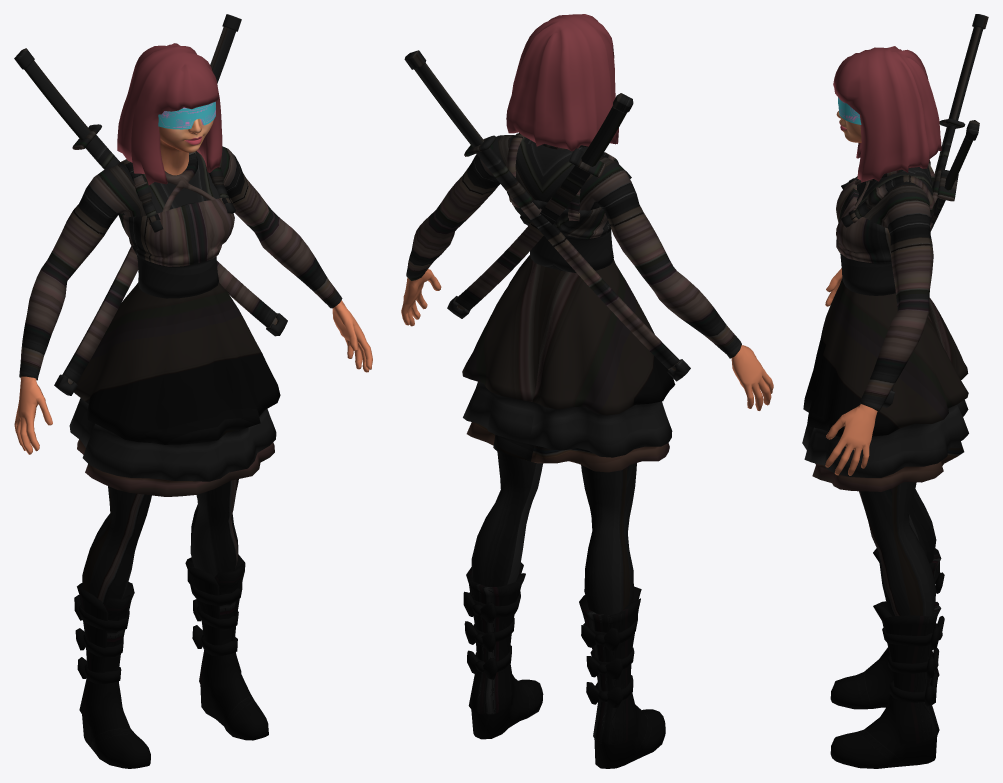
The model's file is developer-2.fbx.
3 views of the same model, side by side, from view 1: azimuth 30°, elevation 25°; view 2: azimuth 150°, elevation 25°; view 3: azimuth 270°, elevation 25° (orthographic). The views are drawn at different scales.
Parts seen in each view (by area): view 1: Wolf3D_Outfit_Bottom, Wolf3D_Outfit_Top, Wolf3D_Outfit_Footwear, Wolf3D_Hair, Wolf3D_Body, Wolf3D_Head, Wolf3D_Glasses; view 2: Wolf3D_Outfit_Bottom, Wolf3D_Outfit_Top, Wolf3D_Outfit_Footwear, Wolf3D_Hair, Wolf3D_Body; view 3: Wolf3D_Outfit_Bottom, Wolf3D_Outfit_Top, Wolf3D_Outfit_Footwear, Wolf3D_Hair, Wolf3D_Body, Wolf3D_Head, Wolf3D_Glasses.
Boxes of the visible parts, <box> form: Wolf3D_Outfit_Bottom: <box>69,282,280,604</box>; Wolf3D_Outfit_Top: <box>14,14,342,395</box>; Wolf3D_Outfit_Footwear: <box>74,554,268,768</box>; Wolf3D_Hair: <box>117,43,222,185</box>; Wolf3D_Body: <box>14,300,372,454</box>; Wolf3D_Head: <box>159,118,213,175</box>; Wolf3D_Glasses: <box>158,101,215,129</box>; Wolf3D_Outfit_Bottom: <box>462,255,675,615</box>; Wolf3D_Outfit_Top: <box>404,50,741,381</box>; Wolf3D_Outfit_Footwear: <box>463,562,665,768</box>; Wolf3D_Hair: <box>506,14,618,151</box>; Wolf3D_Body: <box>401,269,773,410</box>; Wolf3D_Outfit_Bottom: <box>802,279,968,616</box>; Wolf3D_Outfit_Top: <box>836,14,988,412</box>; Wolf3D_Outfit_Footwear: <box>830,548,944,768</box>; Wolf3D_Hair: <box>833,46,941,182</box>; Wolf3D_Body: <box>825,268,877,475</box>; Wolf3D_Head: <box>836,111,861,142</box>; Wolf3D_Glasses: <box>838,97,861,124</box>.
Size of the model in its own units: 0.9279 by 1.76 by 0.436.
9 materials, 9 textured.
